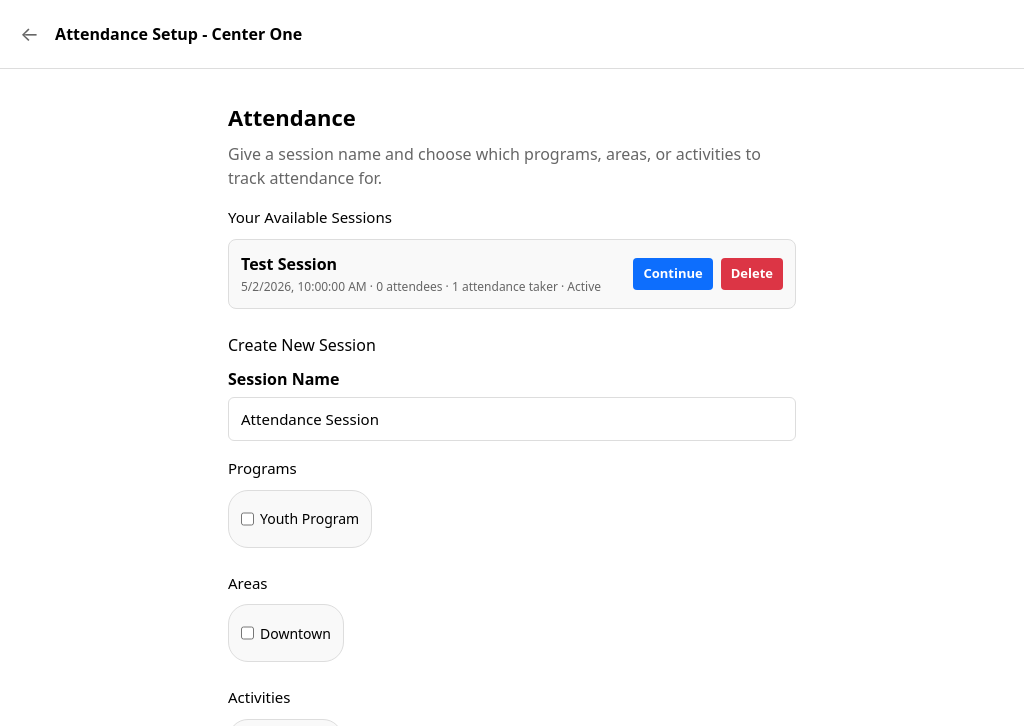
it: AttendancePage › uses the IE Date placeholder and does not render helper copy under session attendees
This screenshot has width=1024, height=726.
Step 1. Click the button "Continue" → (673, 274), box [634,258,713,290]
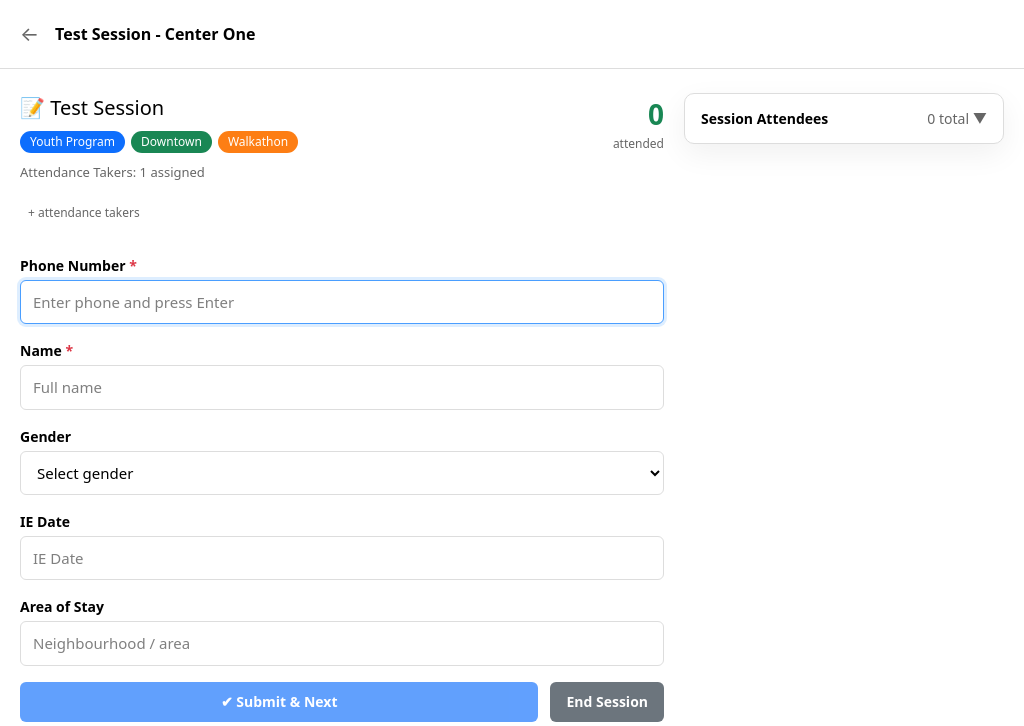
Expected: the field with placeholder "Enter phone and press Enter" is shown, [20,280,664,324]
Expected: the field with placeholder "IE Date" is shown, [20,536,664,580]
